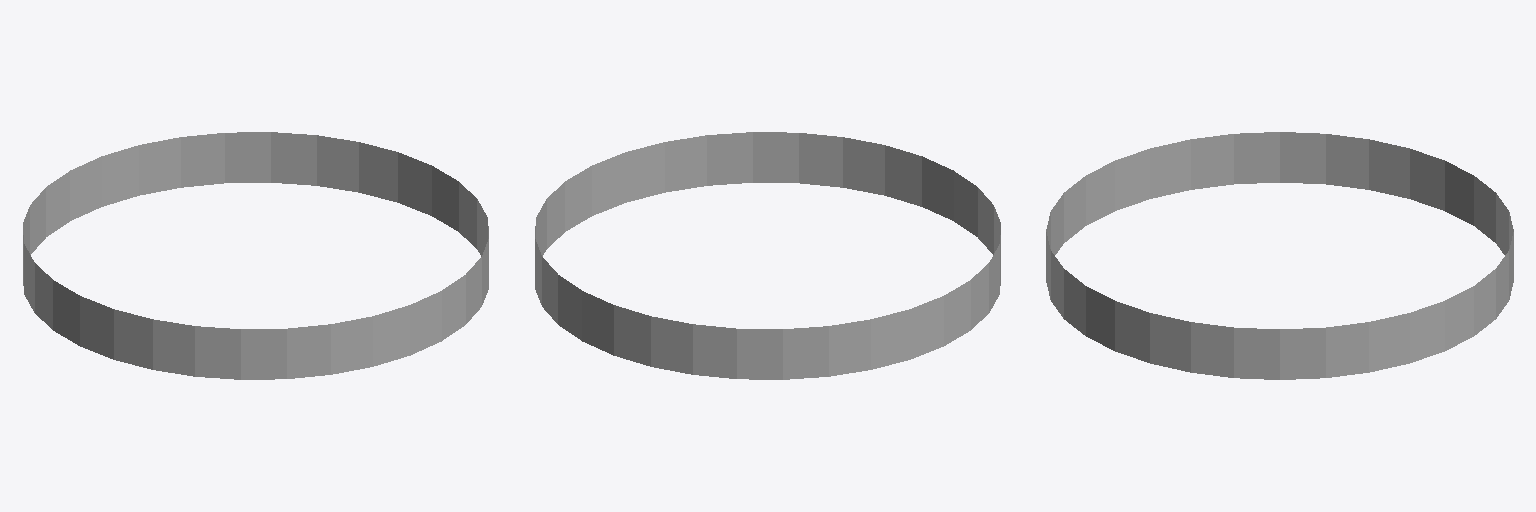
The model's file is arena_wall.obj.
3 renders of one model, left to right at view 1: azimuth 30°, elevation 25°; view 2: azimuth 150°, elevation 25°; view 3: azimuth 270°, elevation 25°, orthographic.
Visible parts, largest first — view 1: Circle_Circle.001; view 2: Circle_Circle.001; view 3: Circle_Circle.001.
Part boxes in pixels (x1,y1,x2,y2): Circle_Circle.001: (23, 132, 488, 379); Circle_Circle.001: (535, 132, 1000, 379); Circle_Circle.001: (1046, 132, 1513, 379).
Bounding box in the file's own units: 223 × 26.69 × 223.